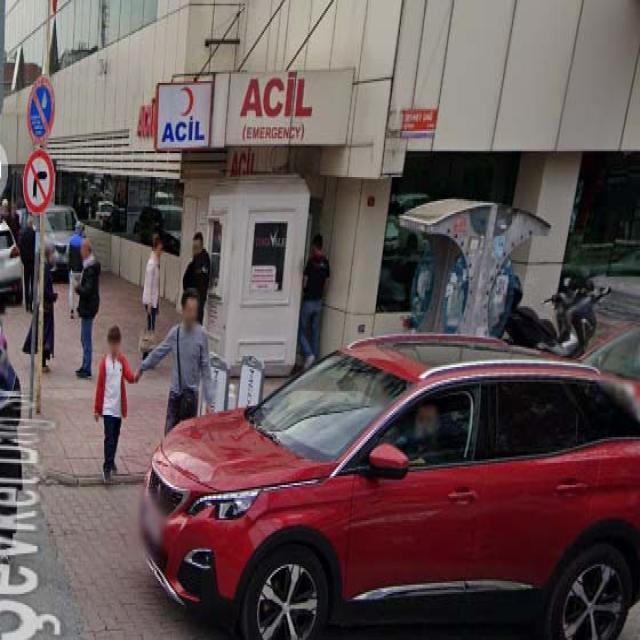parkyasak: (26, 76, 55, 146)
sagadonulmez: (23, 149, 55, 212)
